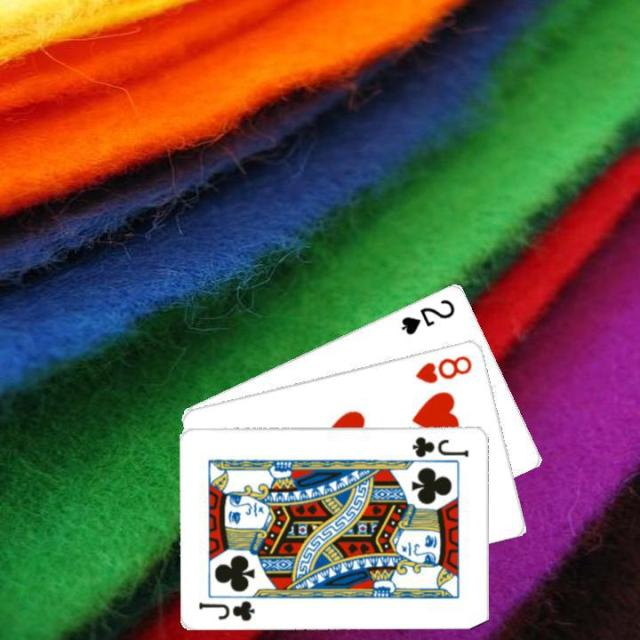2S: (397, 294, 457, 337)
8H: (412, 350, 474, 385)
JC: (409, 432, 471, 459), (195, 597, 257, 623)
